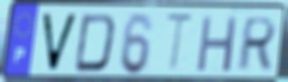6: (118, 10, 155, 77)
D: (72, 12, 119, 75)
H: (195, 14, 240, 75)
R: (234, 16, 279, 73)
T: (163, 11, 197, 76)
V: (39, 11, 80, 75)
